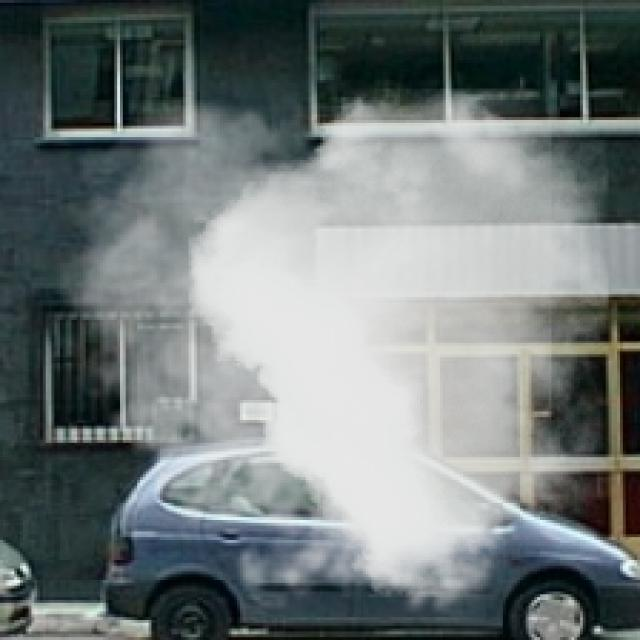smoke: (40, 89, 609, 628)
